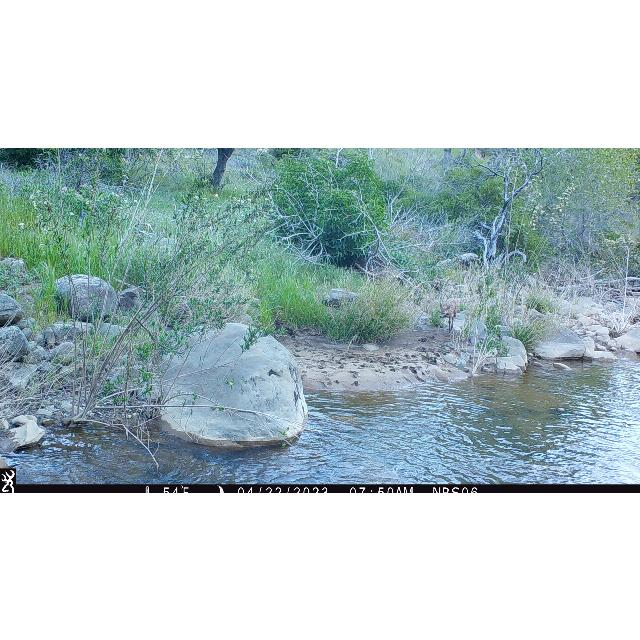animals: (439, 296, 458, 334)
